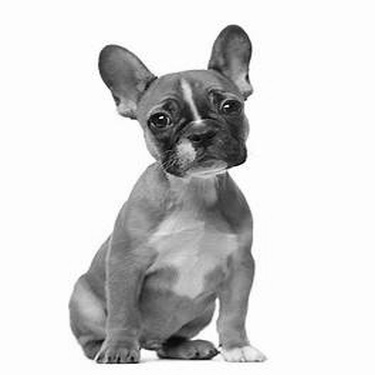dog: (49, 15, 275, 367)
